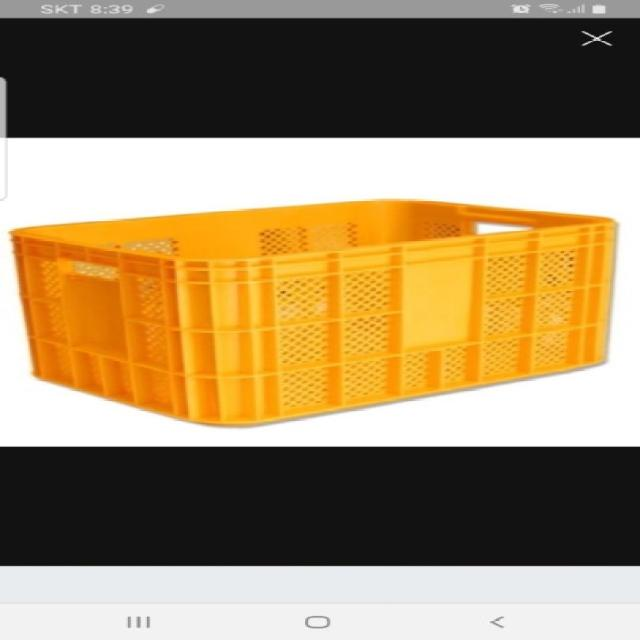basket: (12, 185, 625, 439)
